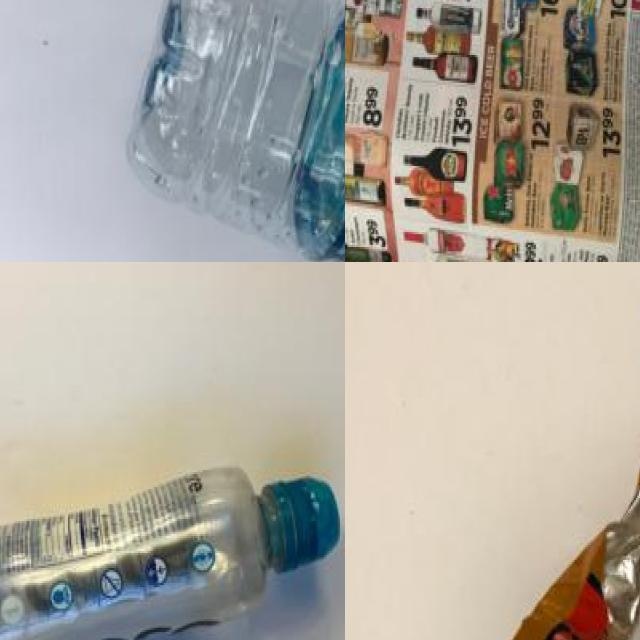paper: (345, 0, 640, 262)
plastic: (0, 460, 342, 640), (112, 0, 345, 262)
trash: (501, 296, 640, 640)
